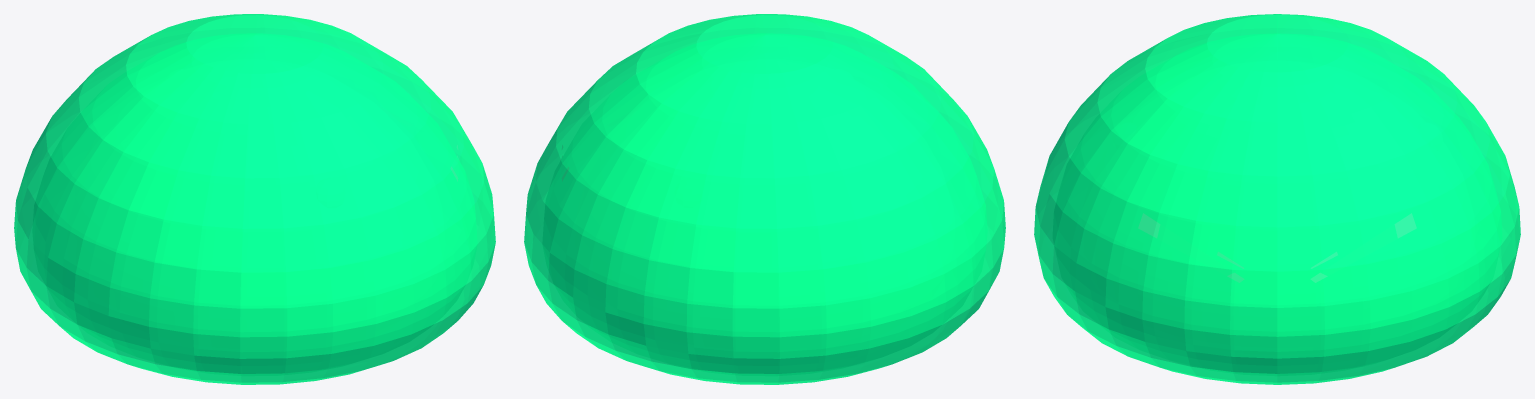
The model's file is Slime_fbx.fbx.
3 renders of one model, left to right at view 1: azimuth 30°, elevation 25°; view 2: azimuth 150°, elevation 25°; view 3: azimuth 270°, elevation 25°, orthographic.
Visible parts, largest first — view 1: SKIN 3, SKIN 2; view 2: SKIN 3, SKIN 2; view 3: SKIN 3, SKIN 2.
Boxes of the visible parts, box(x1,y1,x2,y2) form: SKIN 3: box(14, 14, 495, 384); SKIN 2: box(33, 34, 476, 375); SKIN 3: box(524, 14, 1005, 384); SKIN 2: box(543, 34, 986, 375); SKIN 3: box(1034, 14, 1520, 384); SKIN 2: box(1053, 34, 1501, 375).
Size of the model in its own units: 225 by 146 by 226.
